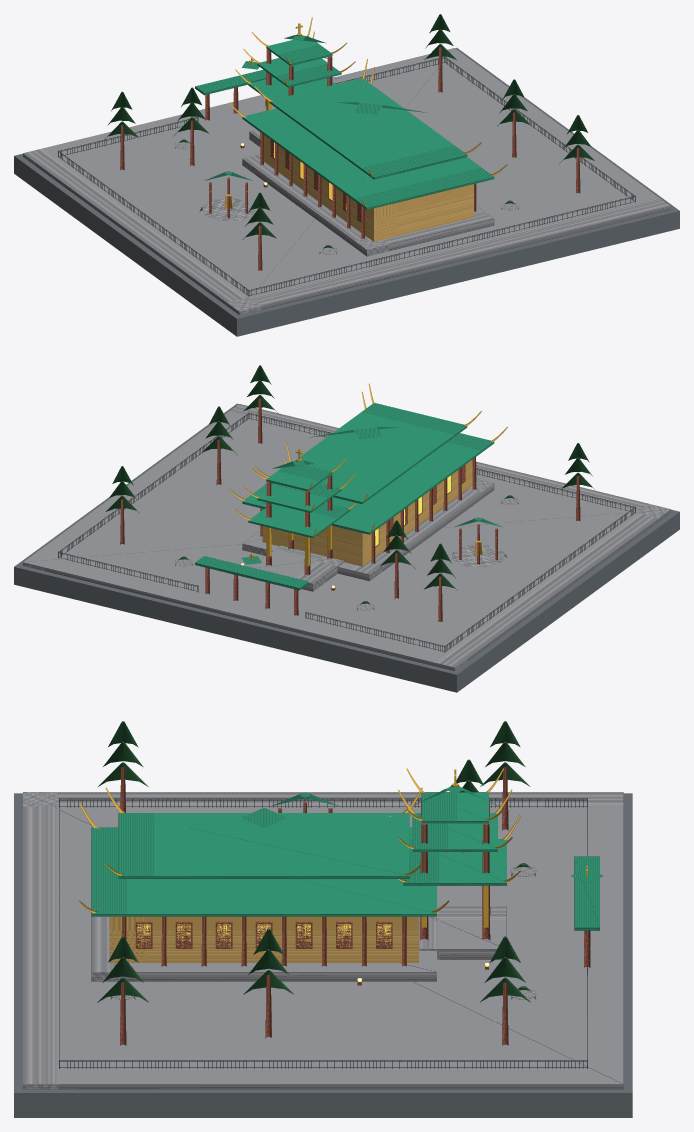
The model's file is ultra_lm_31_nha_tho_du_sinh.glb.
3 views of the same model, one above another, from view 1: azimuth 30°, elevation 25°; view 2: azimuth 150°, elevation 25°; view 3: azimuth 270°, elevation 25° (orthographic). The views are drawn at different scales.
Visible parts, largest first — view 1: Courtyard_And_Steps, Curved_Oriental_Glazed_Roofs, FoundationSkirt_Minus3m, Sanctuary_And_Rectory_Walls, Courtyard_Perimeter_Railings, Imperial_Vermilion_Columns_And_Beams, Hilltop_Gardens_And_Pines, Dragon_Crests_Bell_And_Cross; view 2: Courtyard_And_Steps, Curved_Oriental_Glazed_Roofs, FoundationSkirt_Minus3m, Imperial_Vermilion_Columns_And_Beams, Courtyard_Perimeter_Railings, Sanctuary_And_Rectory_Walls, Hilltop_Gardens_And_Pines, Dragon_Crests_Bell_And_Cross; view 3: Courtyard_And_Steps, Curved_Oriental_Glazed_Roofs, FoundationSkirt_Minus3m, Sanctuary_And_Rectory_Walls, Imperial_Vermilion_Columns_And_Beams, Hilltop_Gardens_And_Pines, Courtyard_Perimeter_Railings, Dragon_Crests_Bell_And_Cross, Arched_StainedGlass_Windows.
Part boxes in pixels (x1,y1,x2,y2): Courtyard_And_Steps: [23, 48, 670, 314]; Curved_Oriental_Glazed_Roofs: [195, 35, 494, 209]; FoundationSkirt_Minus3m: [14, 48, 679, 336]; Sanctuary_And_Rectory_Walls: [264, 135, 473, 241]; Courtyard_Perimeter_Railings: [58, 57, 635, 296]; Imperial_Vermilion_Columns_And_Beams: [120, 47, 580, 270]; Hilltop_Gardens_And_Pines: [103, 14, 594, 248]; Dragon_Crests_Bell_And_Cross: [224, 17, 507, 209]; Courtyard_And_Steps: [23, 404, 670, 670]; Curved_Oriental_Glazed_Roofs: [195, 403, 501, 590]; FoundationSkirt_Minus3m: [14, 403, 679, 692]; Imperial_Vermilion_Columns_And_Beams: [120, 398, 580, 621]; Courtyard_Perimeter_Railings: [58, 412, 635, 652]; Sanctuary_And_Rectory_Walls: [262, 459, 472, 566]; Hilltop_Gardens_And_Pines: [106, 365, 594, 604]; Dragon_Crests_Bell_And_Cross: [229, 383, 507, 566]; Courtyard_And_Steps: [23, 792, 623, 1089]; Curved_Oriental_Glazed_Roofs: [91, 786, 602, 930]; FoundationSkirt_Minus3m: [14, 793, 632, 1117]; Sanctuary_And_Rectory_Walls: [109, 916, 418, 962]; Imperial_Vermilion_Columns_And_Beams: [111, 767, 590, 1045]; Hilltop_Gardens_And_Pines: [97, 721, 531, 1002]; Courtyard_Perimeter_Railings: [59, 798, 587, 1068]; Dragon_Crests_Bell_And_Cross: [79, 768, 587, 927]; Arched_StainedGlass_Windows: [137, 924, 391, 947].
Bounding box in the file's own units: 78 × 24.02 × 73.2.
Materials: 10 (4 with a texture image).
